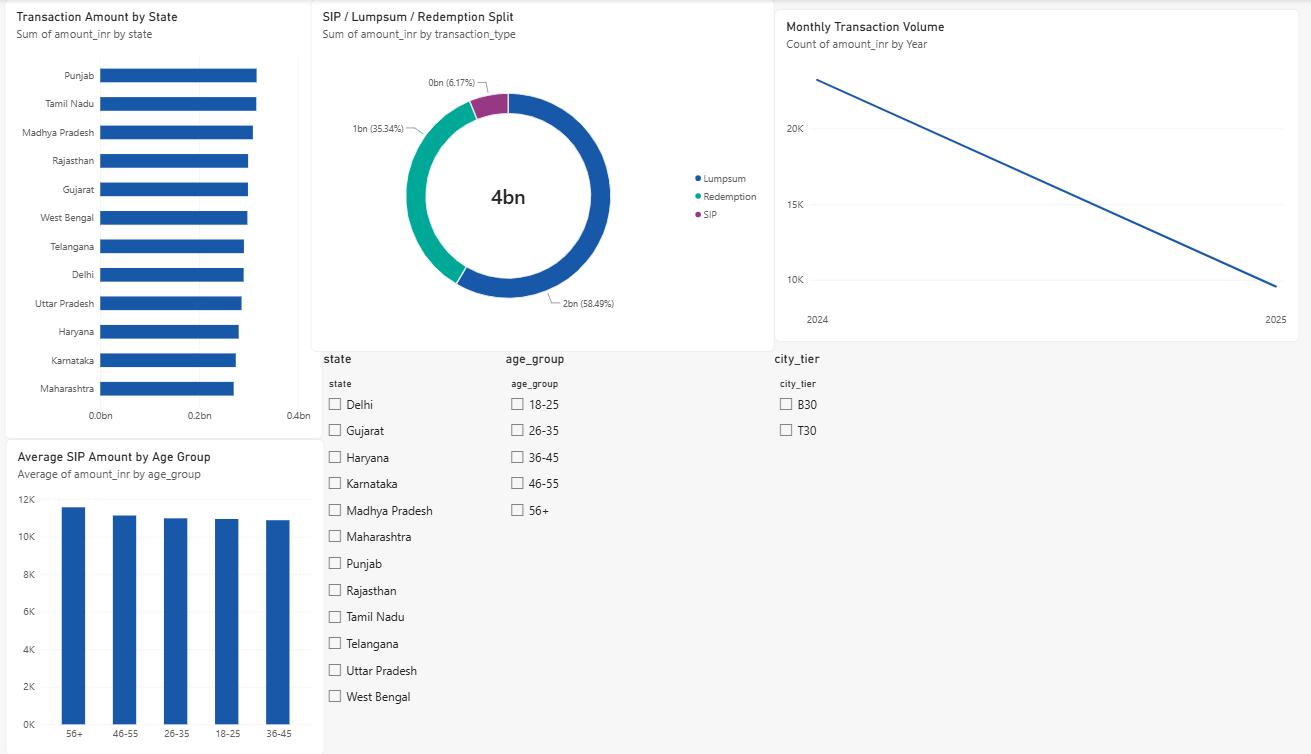

This screenshot's page, from the dashboard's own definition file:
{"tool":"powerbi","page":{"name":"Investor Analytics","canvas":[1920,1080],"ordinal":2},"visuals":[{"type":"clusteredBarChart","title":"Transaction Amount by State","fields":{"Category":["08_investor_transactions.state"],"Y":["Sum(08_investor_transactions.amount_inr)"]},"box":[10.3,0,454.9,627.8],"z":0},{"type":"donutChart","title":"SIP / Lumpsum / Redemption Split","fields":{"Category":["08_investor_transactions.transaction_type"],"Y":["Sum(08_investor_transactions.amount_inr)"]},"box":[448.7,0,662.8,504.3],"z":1000},{"type":"clusteredColumnChart","title":"Average SIP Amount by Age Group","fields":{"Category":["08_investor_transactions.age_group"],"Y":["Avg(08_investor_transactions.amount_inr)"]},"box":[12.3,627.8,454.9,452.8],"z":2000},{"type":"lineChart","title":"Monthly Transaction Volume","fields":{"Category":["DateTable.Date.Variation.Date Hierarchy.Year","DateTable.Date.Variation.Date Hierarchy.Quarter","DateTable.Date.Variation.Date Hierarchy.Month","DateTable.Date.Variation.Date Hierarchy.Day"],"Y":["CountNonNull(08_investor_transactions.amount_inr)"]},"box":[1111.5,14.4,749.2,475.5],"z":3000},{"type":"slicer","title":"state","fields":{"Values":["08_investor_transactions.state"]},"box":[465.2,504.3,261.4,576.3],"z":4000},{"type":"slicer","title":"age_group","fields":{"Values":["08_investor_transactions.age_group"]},"box":[726.6,504.3,384.9,508.4],"z":5000},{"type":"slicer","title":"city_tier","fields":{"Values":["08_investor_transactions.city_tier"]},"box":[1111.5,504.3,127.6,508.4],"z":6000}]}

Visuals, with their boxes in screenshot pixels (x1, y1, x2, y2), scaled from the page's 1920x1080 canvas onto the 1311x754 screenshot:
"Transaction Amount by State" clusteredBarChart: bbox=(7, 0, 318, 438)
"SIP / Lumpsum / Redemption Split" donutChart: bbox=(306, 0, 759, 352)
"Average SIP Amount by Age Group" clusteredColumnChart: bbox=(8, 438, 319, 753)
"Monthly Transaction Volume" lineChart: bbox=(759, 10, 1271, 342)
"state" slicer: bbox=(318, 352, 496, 753)
"age_group" slicer: bbox=(496, 352, 759, 707)
"city_tier" slicer: bbox=(759, 352, 846, 707)
